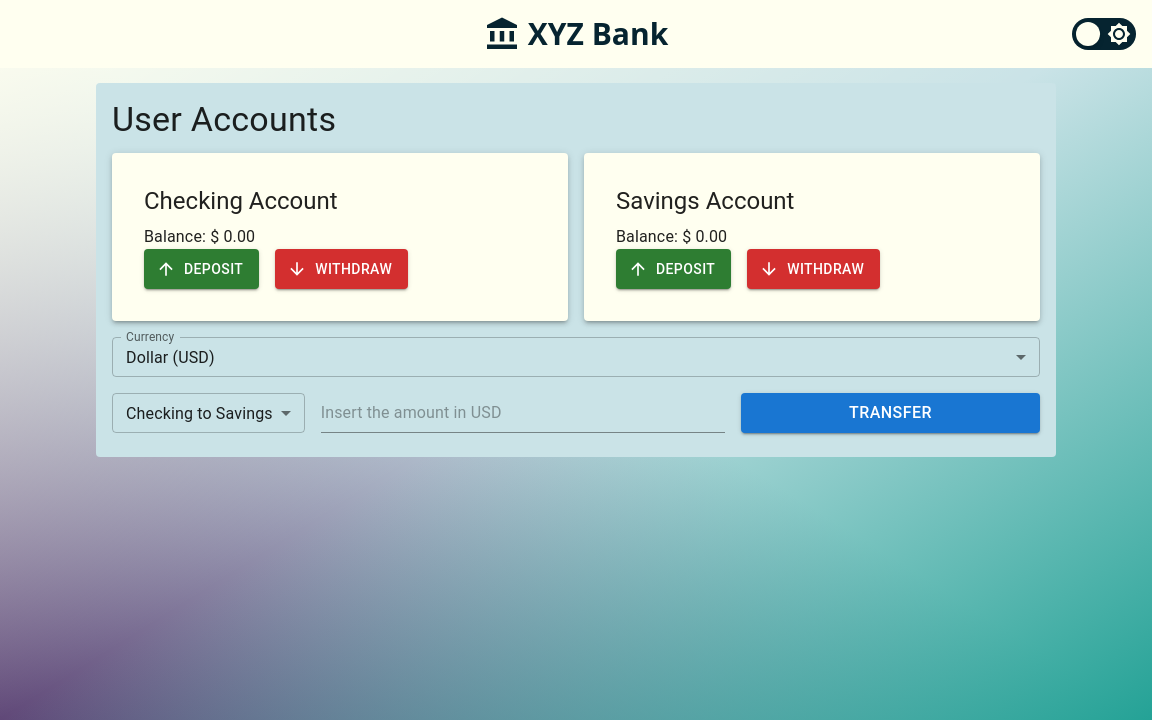
Test: Home › updates the exchange rate correctly when the selected currency is changed
Step 1. Press the mouse on the dropdown named "currency" → (170, 357), box [126, 348, 215, 367]
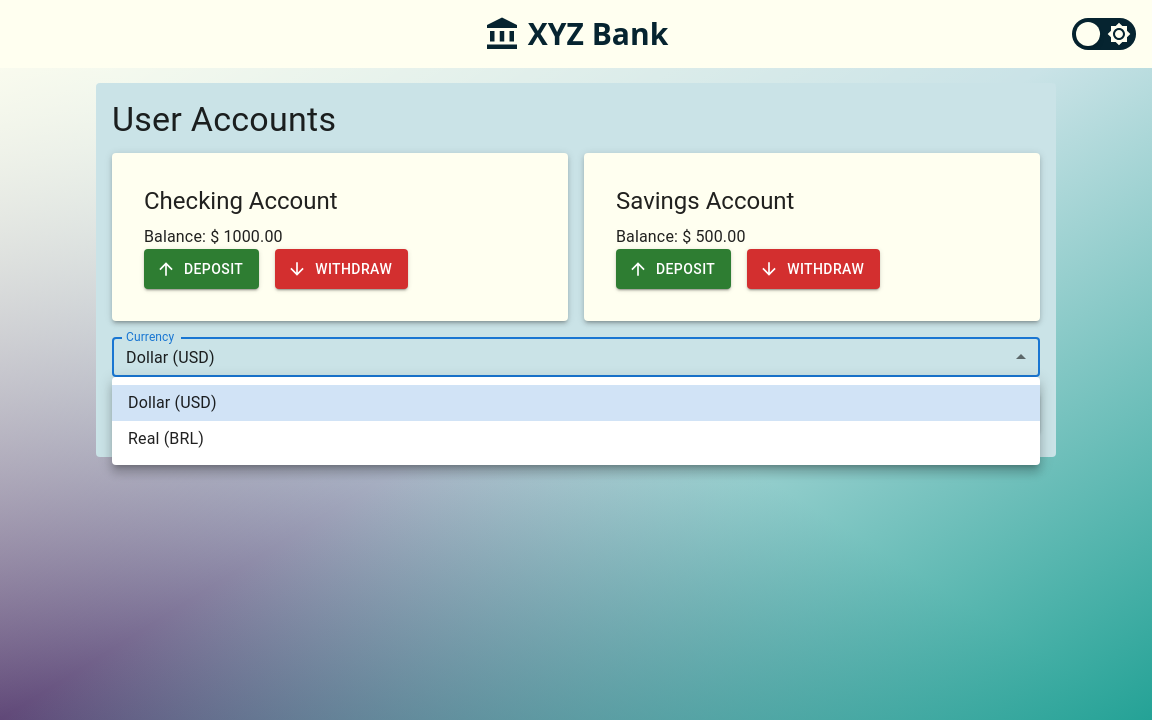
Step 2. Click the option "Real (BRL)" → (166, 438), box [128, 429, 204, 448]
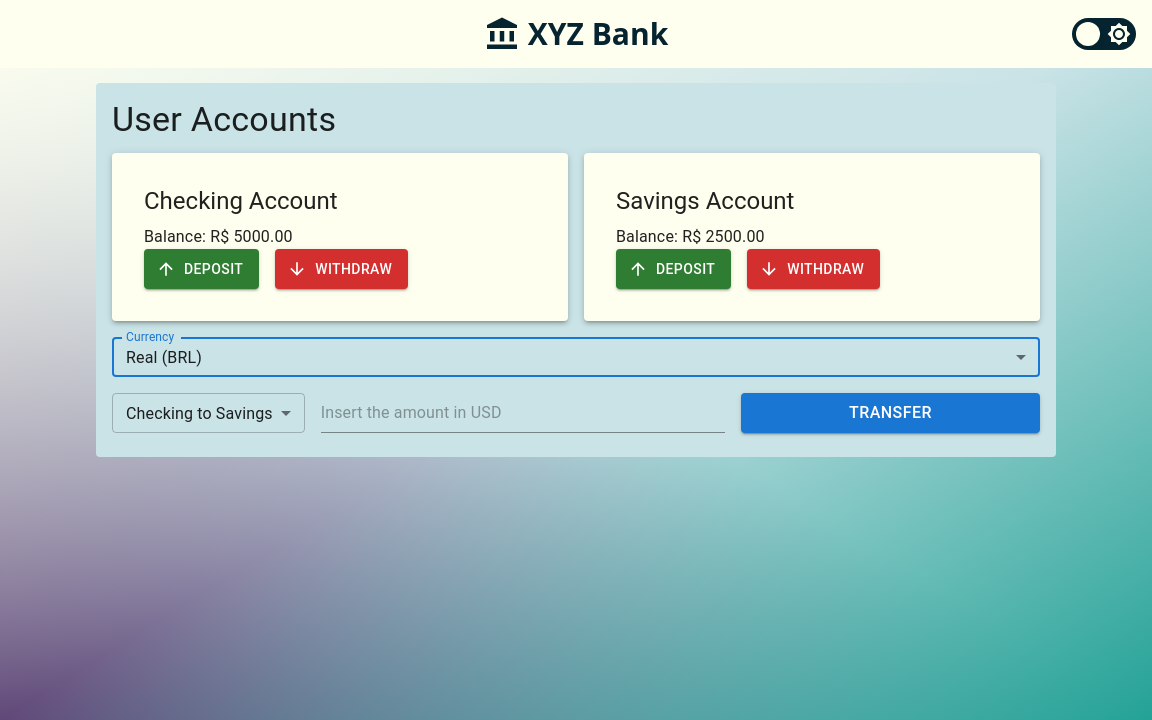
Expected: the text with test id "checking-account-balance" shows "R$ 5000.00", [144, 227, 293, 246]
